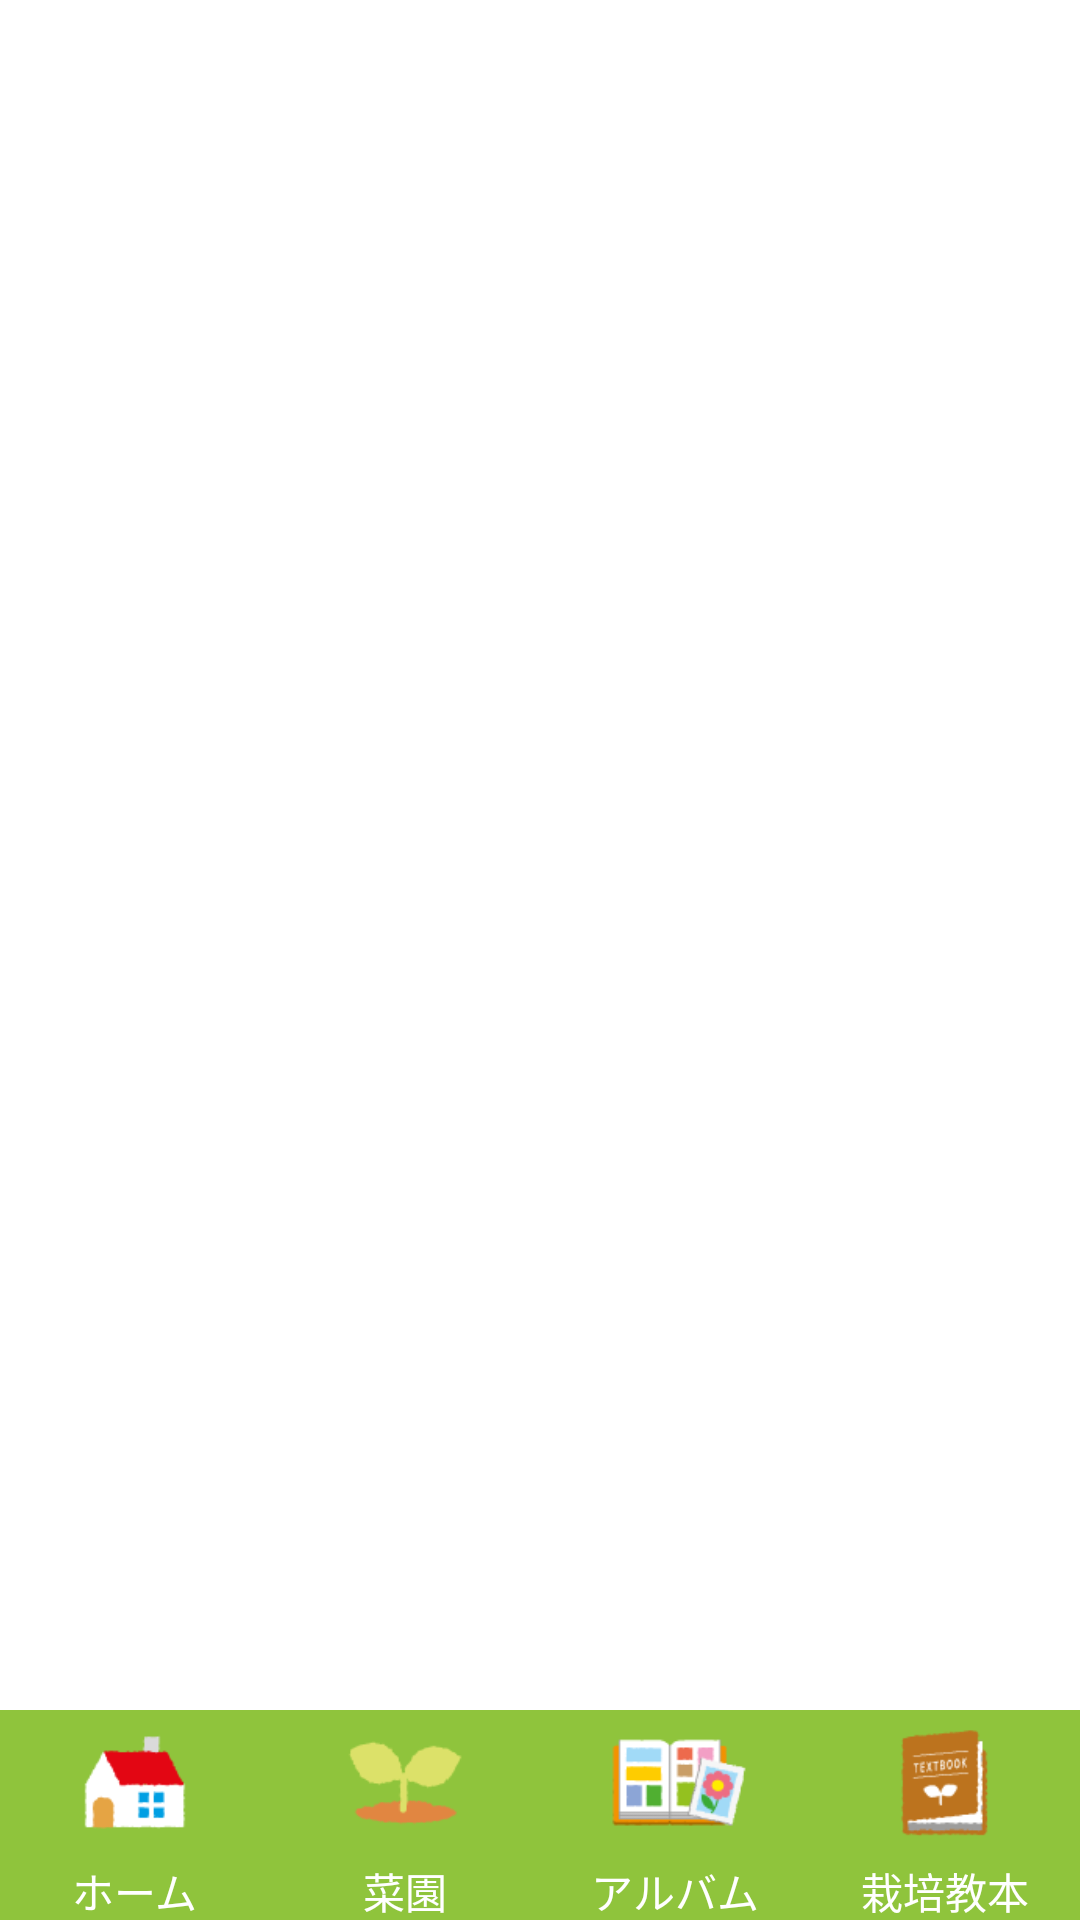

Icons on this 1080w x 1920h Android screen, each with the point to tap as point (x, y):
home: point (134, 1782)
